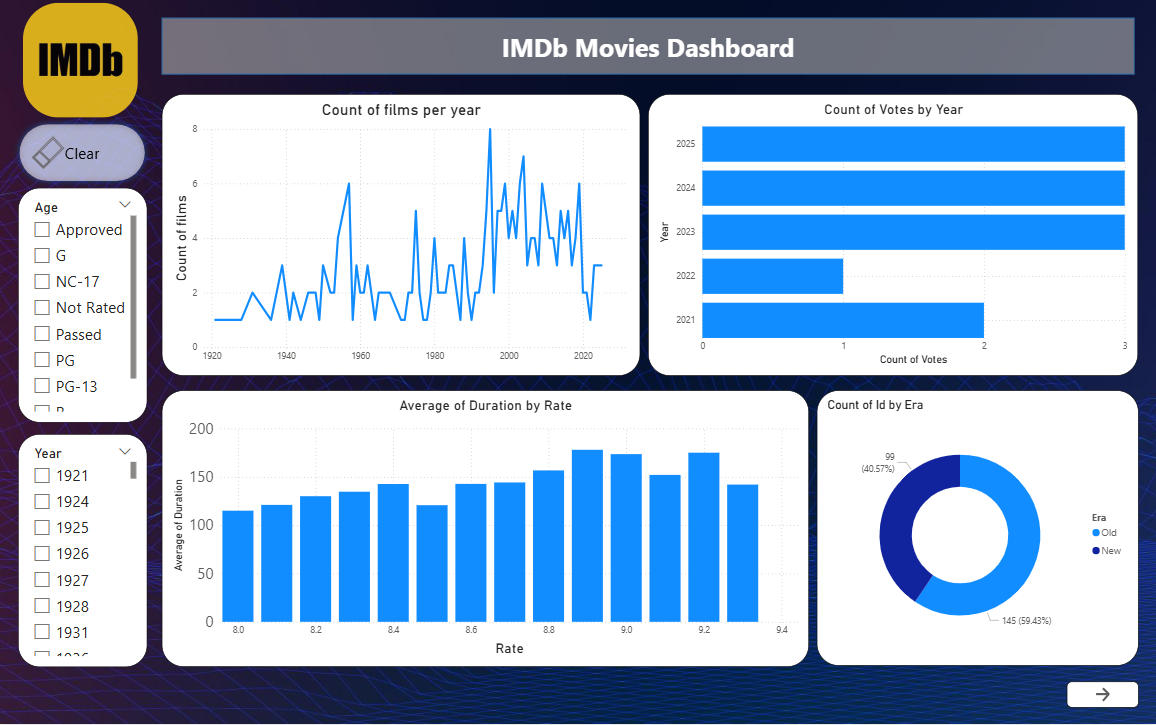

This screenshot's page, from the dashboard's own definition file:
{"tool":"powerbi","page":{"name":"Page 1","canvas":[1600,1000],"ordinal":0},"visuals":[{"type":"image","box":[34.5,5.5,158.2,158.2],"z":0},{"type":"shape","box":[225.5,25.5,1341.8,78.2],"z":1000},{"type":"lineChart","title":"Count of films per year","fields":{"Y":["CountNonNull(Movies.Id)"],"Category":["Movies.Year"]},"box":[225.5,130.9,660,389.1],"z":2000},{"type":"barChart","fields":{"Category":["Movies.Year"],"Y":["CountNonNull(Movies.Votes)"]},"box":[896.4,130.9,676.4,389.1],"z":3000},{"type":"actionButton","box":[20,163.6,190.9,96.4],"z":4000},{"type":"clusteredColumnChart","fields":{"Y":["Avg(Movies.Duration)"],"Category":["Movies.Rate"]},"box":[225.5,540,892.7,381.8],"z":5000},{"type":"slicer","fields":{"Values":["Movies.Age"]},"box":[27.3,260,178.2,323.6],"z":6000},{"type":"slicer","fields":{"Values":["Movies.Year"]},"box":[27.3,600,178.2,321.8],"z":7000},{"type":"donutChart","fields":{"Category":["Movies.Era"],"Y":["CountNonNull(Movies.Id)"]},"box":[1129.1,540,443.6,380],"z":8000},{"type":"actionButton","box":[1473.4,941.7,99.5,36],"z":9000}]}

Visuals, with their boxes in screenshot pixels (x1, y1, x2, y2), scaled from the page's 1600x1000 canvas onto the 1156x725 screenshot:
image: (left=25, top=4, right=139, bottom=119)
shape: (left=163, top=18, right=1132, bottom=75)
"Count of films per year" lineChart: (left=163, top=95, right=640, bottom=377)
barChart - Movies.Year x CountNonNull(Movies.Votes): (left=648, top=95, right=1136, bottom=377)
actionButton: (left=14, top=119, right=152, bottom=188)
clusteredColumnChart - Avg(Movies.Duration) x Movies.Rate: (left=163, top=392, right=808, bottom=668)
slicer - Movies.Age: (left=20, top=188, right=148, bottom=423)
slicer - Movies.Year: (left=20, top=435, right=148, bottom=668)
donutChart - Movies.Era x CountNonNull(Movies.Id): (left=816, top=392, right=1136, bottom=667)
actionButton: (left=1065, top=683, right=1136, bottom=709)
